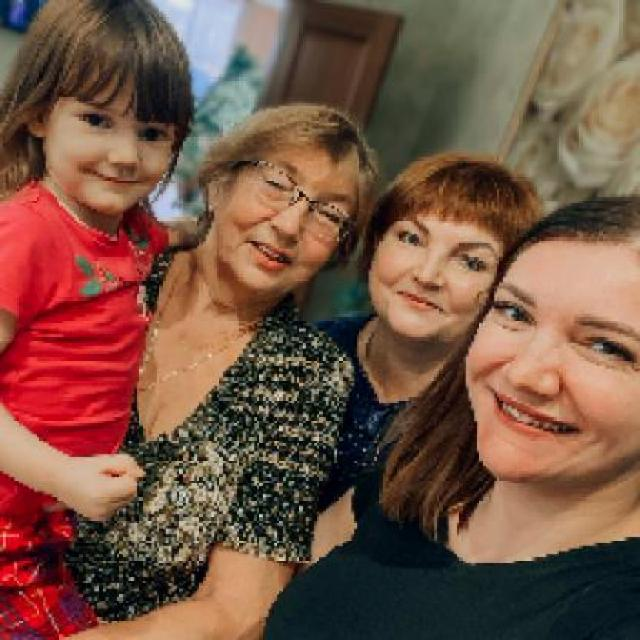child: (2, 0, 195, 637)
